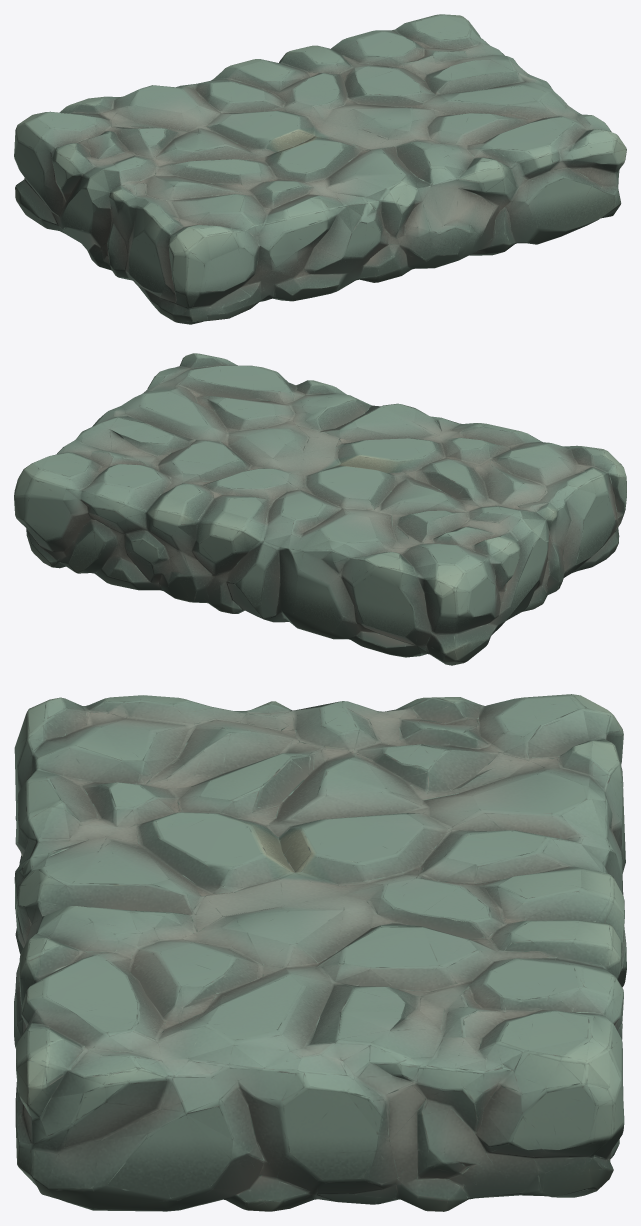
Rendered from Platform 02.fbx.
3 views of the same model, one above another, from view 1: azimuth 30°, elevation 25°; view 2: azimuth 150°, elevation 25°; view 3: azimuth 270°, elevation 25° (orthographic). The views are drawn at different scales.
Parts seen in each view (by area): view 1: Platform.002; view 2: Platform.002; view 3: Platform.002.
Boxes of the visible parts, box(x1,y1,x2,y2) form: Platform.002: box(14, 14, 626, 324); Platform.002: box(14, 353, 626, 665); Platform.002: box(14, 694, 626, 1211).
Size of the model in its own units: 631 by 132 by 432.
Materials: 1 (1 with a texture image).
